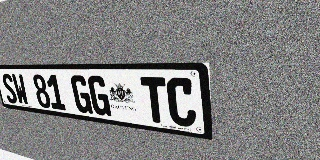1: (45, 74, 66, 110)
8: (31, 74, 52, 109)
C: (166, 77, 197, 128)
G: (87, 75, 111, 117), (70, 75, 93, 114)
S: (1, 73, 18, 104)
T: (140, 77, 169, 124)
W: (11, 74, 30, 106)
